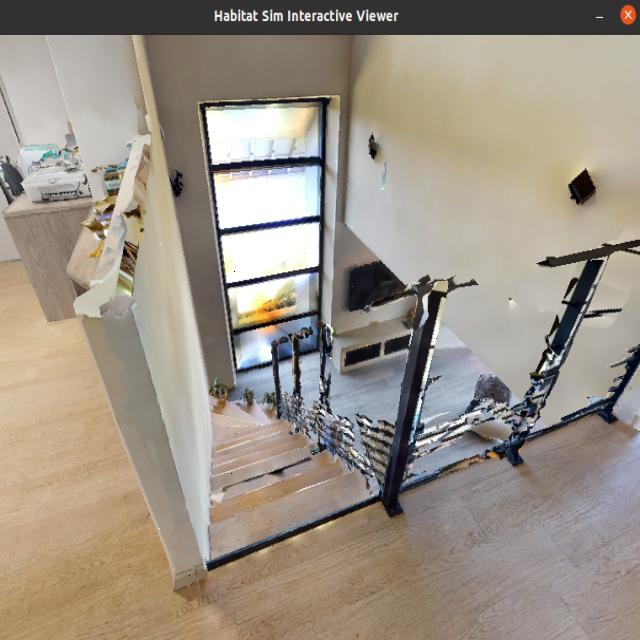stairs: (126, 219, 382, 619)
